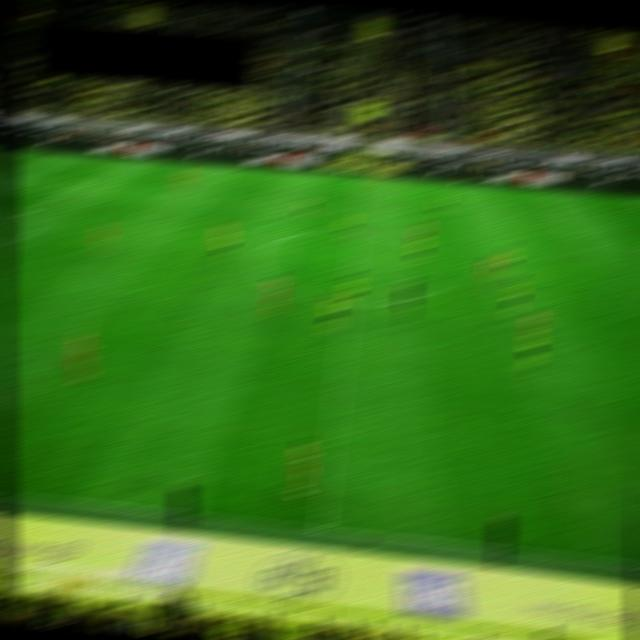bigarea_top_inner: (68, 178, 89, 188)
halfcircle_bottom: (338, 298, 359, 309)
halfcircle_top: (346, 227, 367, 238)
midline_bottom_intersection: (309, 521, 333, 538)
midline_top_intersection: (352, 173, 374, 185)
top_arc_area_intersection: (18, 206, 39, 218)
